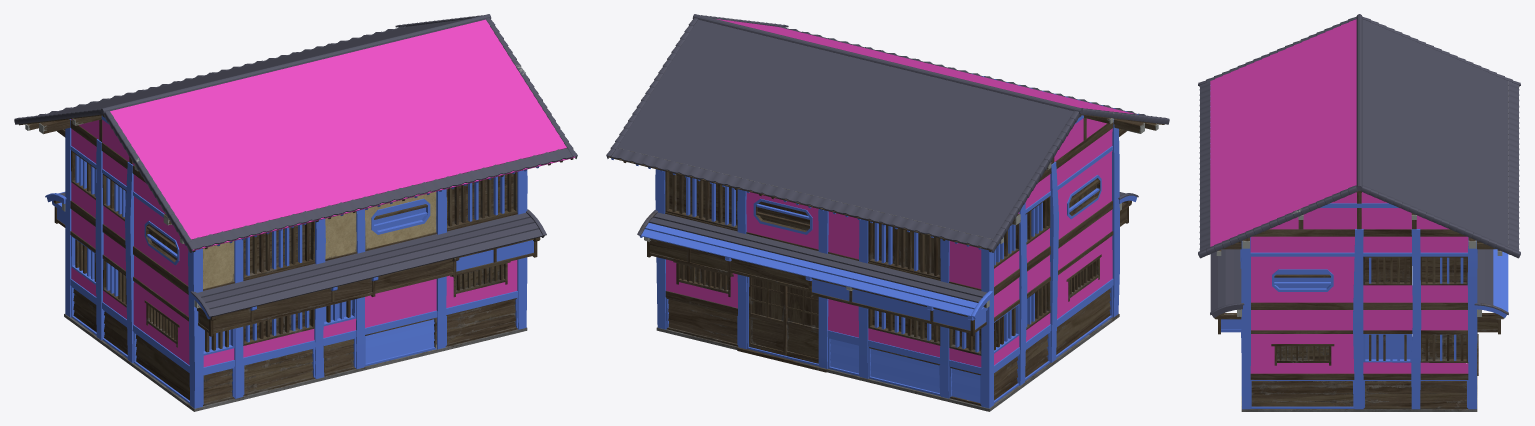
Rendered from m_house1.fbx.
The picture shows the model from 3 angles, left to right: view 1: azimuth 30°, elevation 25°; view 2: azimuth 150°, elevation 25°; view 3: azimuth 270°, elevation 25°; orthographic projection. The views are drawn at different scales.
Visible parts, largest first — view 1: mesh_house1_LOD0; view 2: mesh_house1_LOD0; view 3: mesh_house1_LOD0.
Part boxes in pixels (x1=…): mesh_house1_LOD0: x1=14, y1=14, x2=577, y2=411; mesh_house1_LOD0: x1=606, y1=14, x2=1169, y2=411; mesh_house1_LOD0: x1=1198, y1=14, x2=1520, y2=411.
Size of what is drawn, in the model's own units: 14.36 by 9.29 by 11.41.
